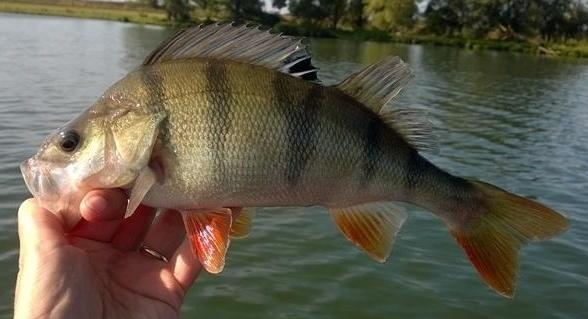Perch: (17, 25, 579, 304)
